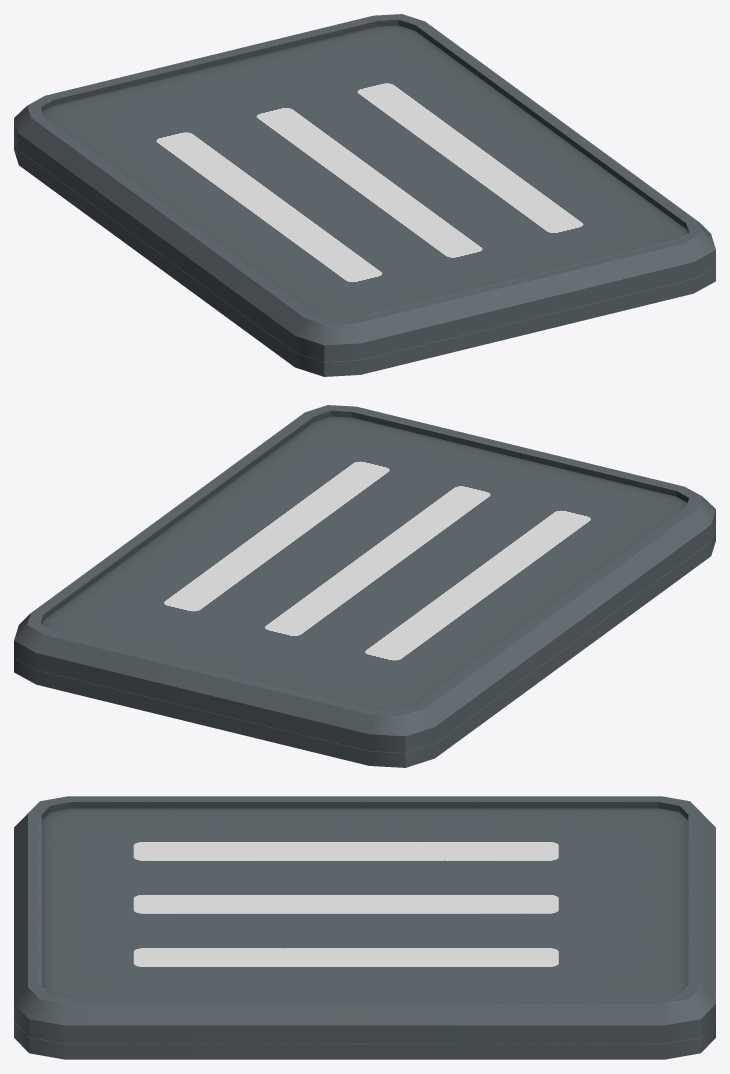
Rendered from drain.fbx.
3 views of the same model, one above another, from view 1: azimuth 30°, elevation 25°; view 2: azimuth 150°, elevation 25°; view 3: azimuth 270°, elevation 25° (orthographic). The views are drawn at different scales.
Parts seen in each view (by area): view 1: drainCover_geo, drainCover_geo1; view 2: drainCover_geo, drainCover_geo1; view 3: drainCover_geo, drainCover_geo1.
Part boxes in pixels (x1=…): drainCover_geo: x1=14, y1=14, x2=715, y2=362; drainCover_geo1: x1=14, y1=136, x2=715, y2=376; drainCover_geo: x1=14, y1=405, x2=715, y2=753; drainCover_geo1: x1=14, y1=527, x2=715, y2=767; drainCover_geo: x1=14, y1=796, x2=715, y2=1043; drainCover_geo1: x1=14, y1=1022, x2=715, y2=1059.
Bounding box in the file's own units: 4.51 × 0.4754 × 6.08.
1 material, 1 textured.
